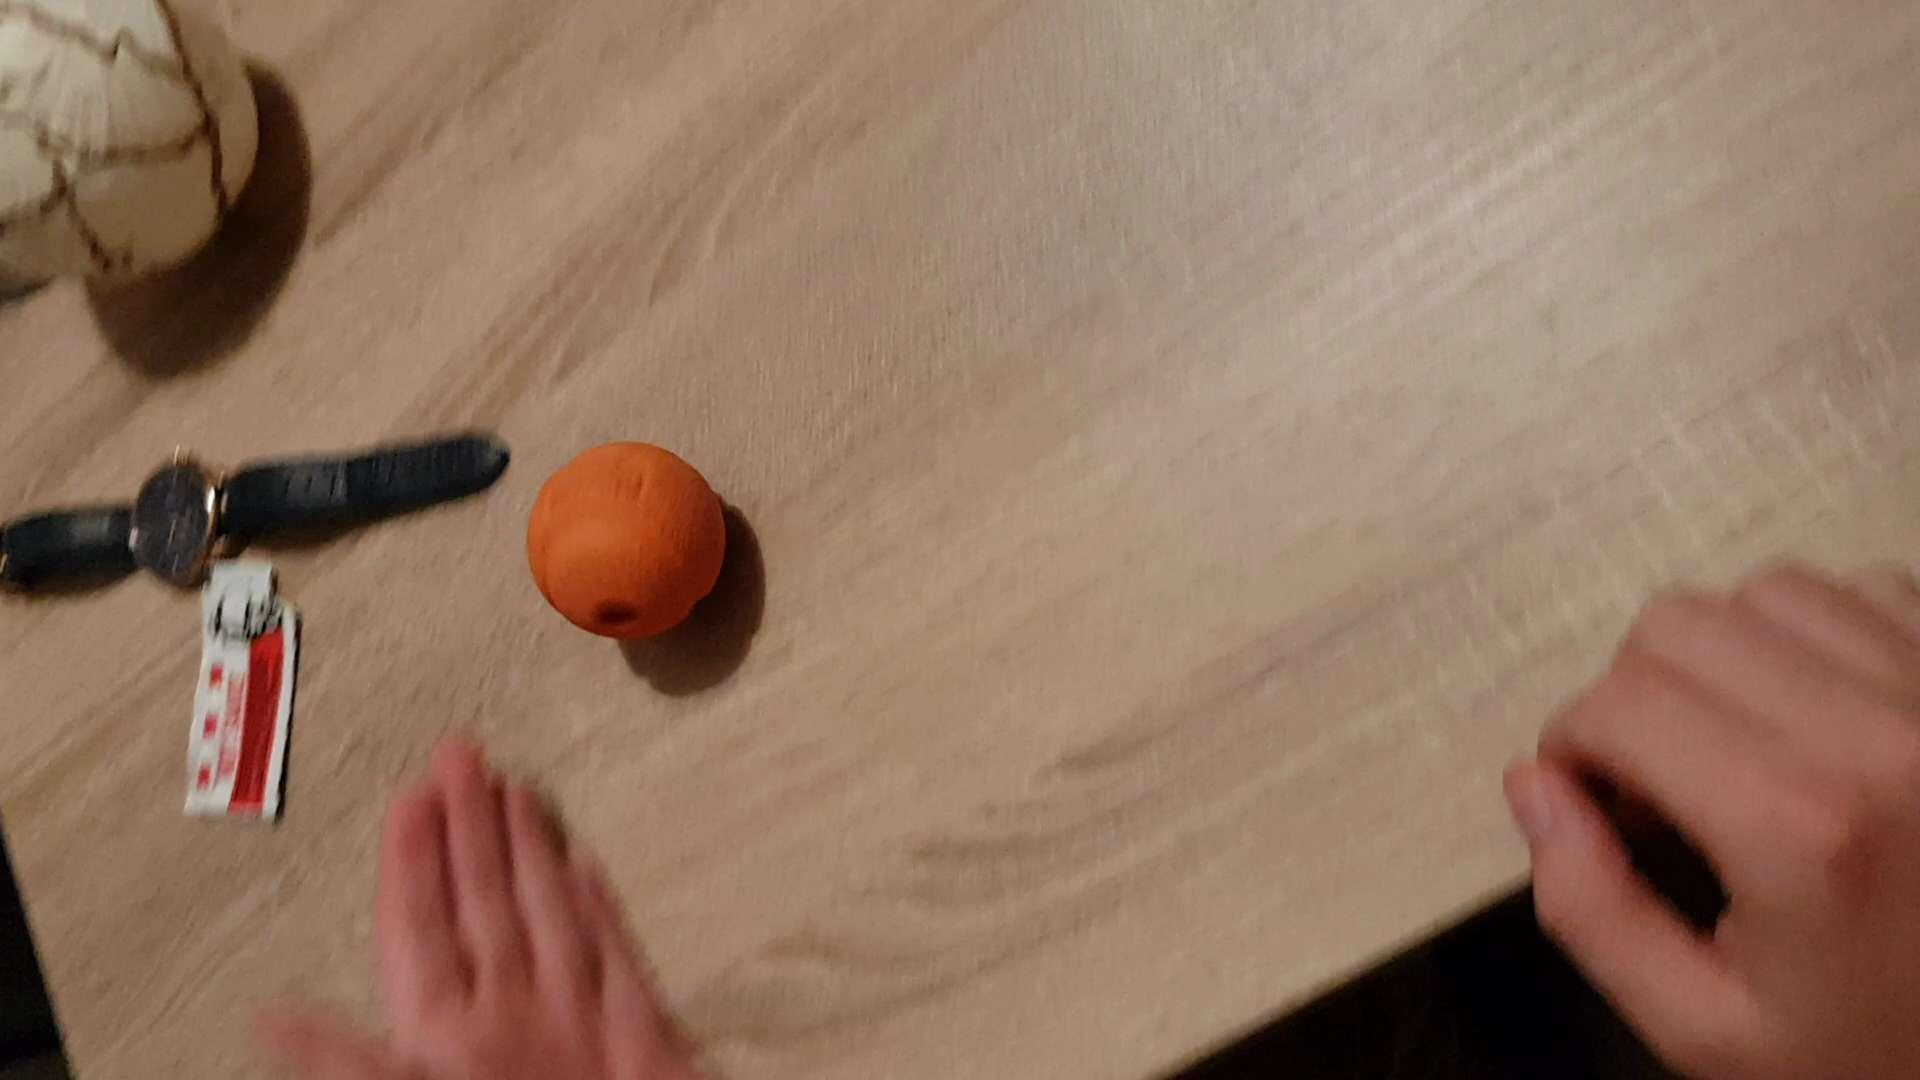Sphere: (0, 0, 262, 291)
sphere: (518, 436, 733, 659)
